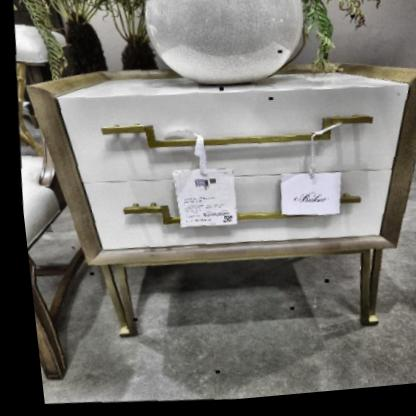Nightstand: (32, 48, 416, 331)
